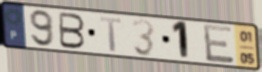1: (170, 20, 191, 63)
3: (131, 17, 160, 58)
9: (28, 9, 55, 49)
B: (58, 10, 87, 50)
E: (201, 23, 237, 65)
T: (99, 15, 124, 54)
